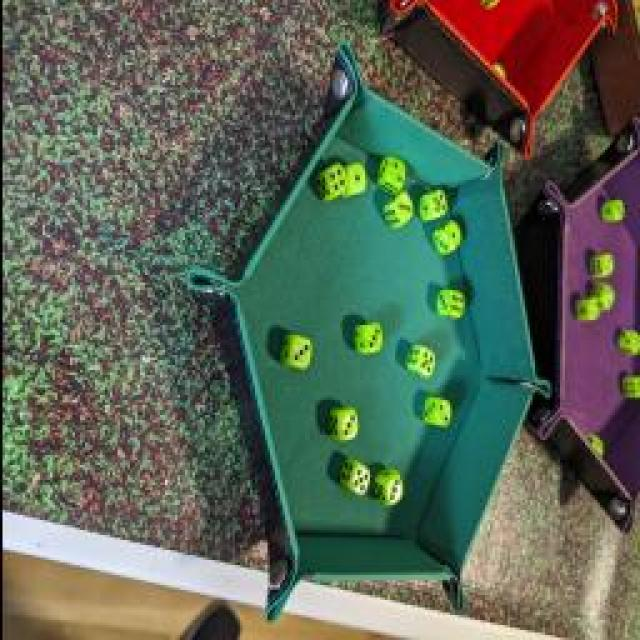dice_1: (340, 158, 368, 208), (431, 220, 461, 252)
dice_2: (419, 392, 451, 436), (377, 154, 405, 194), (588, 244, 612, 281), (574, 295, 598, 325), (590, 284, 615, 308)
dice_3: (276, 326, 312, 376), (348, 314, 382, 364), (324, 402, 361, 446), (371, 466, 401, 512), (381, 191, 414, 231), (598, 199, 622, 226)
dice_4: (312, 162, 346, 206), (612, 330, 640, 362), (584, 436, 606, 459)
dice_5: (338, 458, 368, 498), (404, 344, 438, 378), (417, 190, 445, 222), (620, 368, 640, 400)
dice_6: (435, 285, 465, 325)
